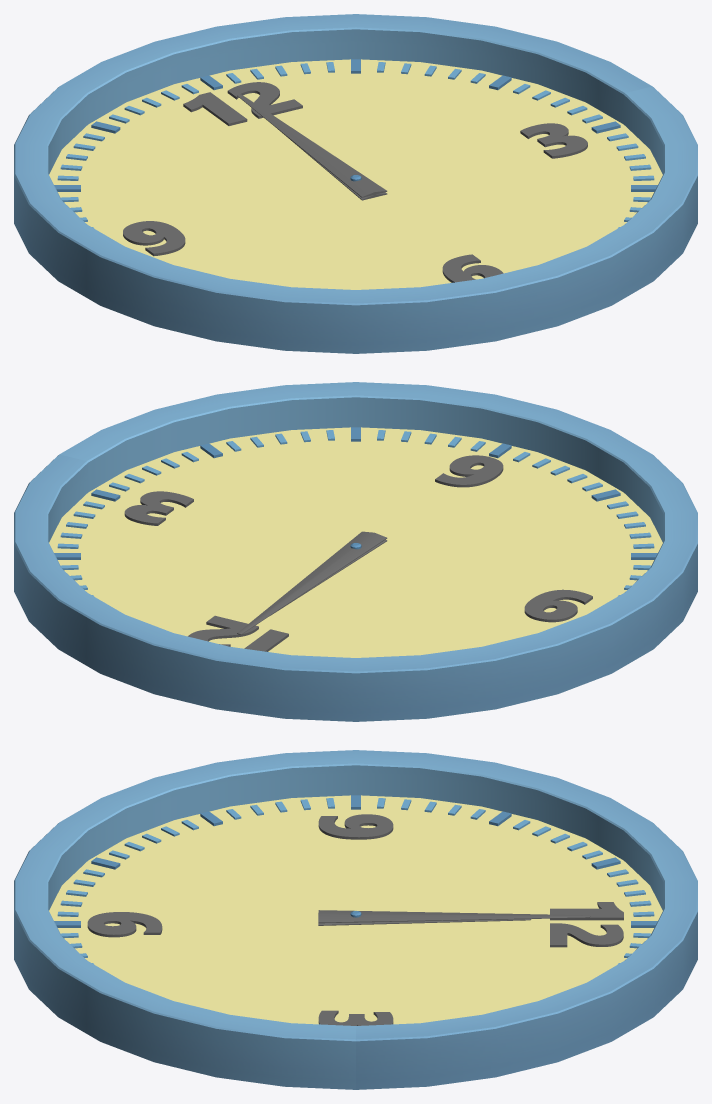
File: Clock.FBX
The picture shows the model from 3 angles, top to bottom: view 1: azimuth 30°, elevation 25°; view 2: azimuth 150°, elevation 25°; view 3: azimuth 270°, elevation 25°; orthographic projection.
Parts seen in each view (by area): view 1: Clock_Face, Clock_Large_Hand; view 2: Clock_Face, Clock_Large_Hand; view 3: Clock_Face, Clock_Large_Hand, Clock_Small_Hand.
Boxes of the visible parts, x1,y1,x2,y2 form: Clock_Face: (14,14,697,353); Clock_Large_Hand: (237,94,387,197); Clock_Face: (14,382,697,721); Clock_Large_Hand: (237,531,387,634); Clock_Face: (14,750,697,1089); Clock_Large_Hand: (318,910,590,923); Clock_Small_Hand: (318,913,531,925).
Bounding box in the file's own units: 19.69 × 1.57 × 19.58.
